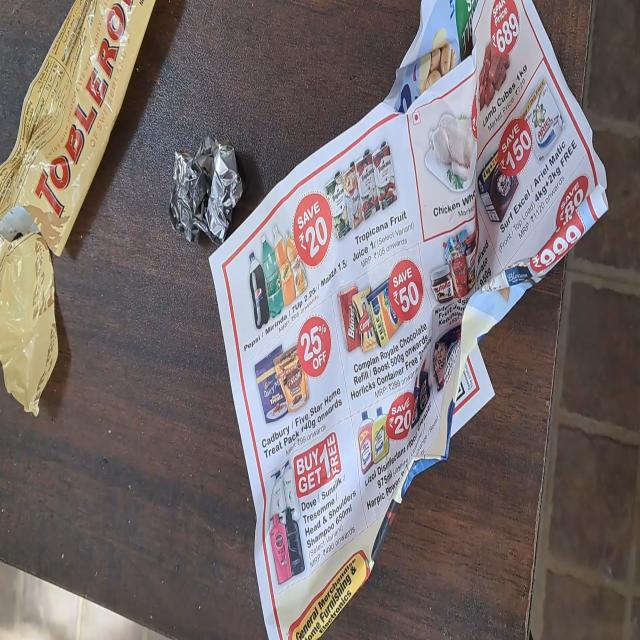Anorganik: (0, 0, 162, 414), (175, 144, 249, 242)
Organik: (302, 0, 609, 442)
